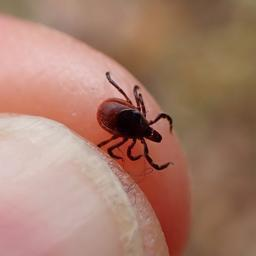Ixodes scapularis: (94, 72, 175, 170)
